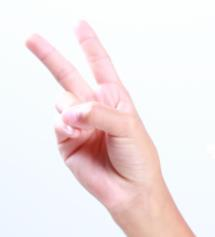front: (22, 16, 167, 201)
